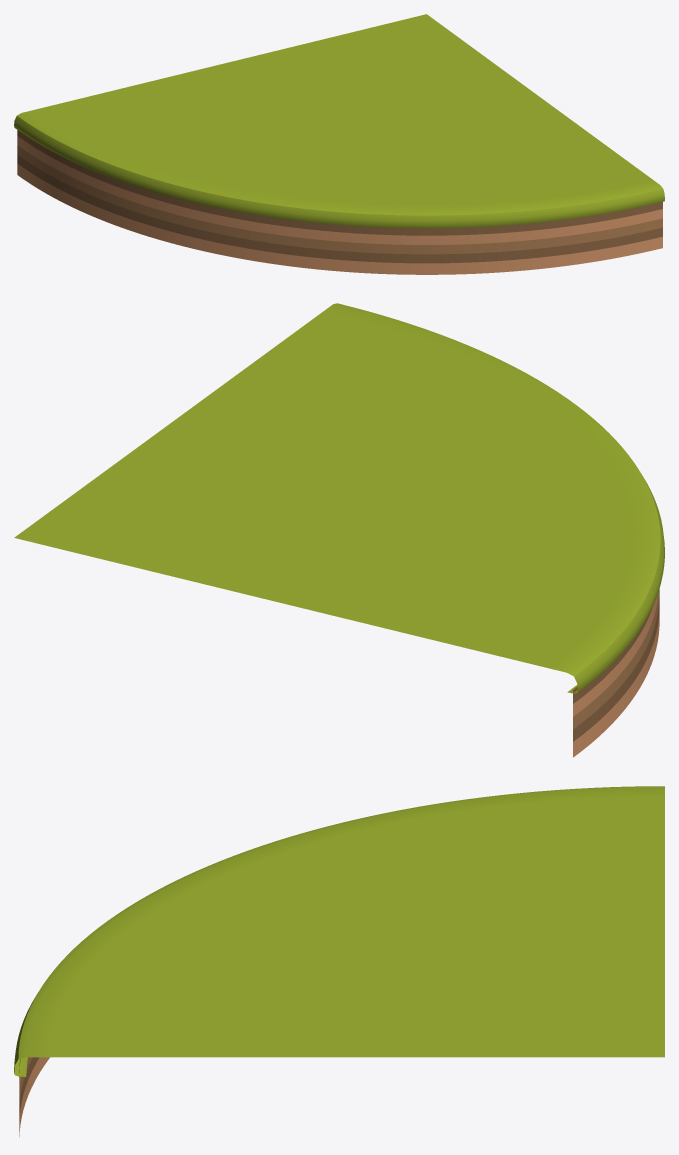
File: platform_grass_corner_round7_tall.gltf
3 views of the same model, one above another, from view 1: azimuth 30°, elevation 25°; view 2: azimuth 150°, elevation 25°; view 3: azimuth 270°, elevation 25° (orthographic). The views are drawn at different scales.
Parts seen in each view (by area): view 1: Cube_Grass_Corner_Round7_Tall; view 2: Cube_Grass_Corner_Round7_Tall; view 3: Cube_Grass_Corner_Round7_Tall.
Boxes of the visible parts, x1,y1,x2,y2 form: Cube_Grass_Corner_Round7_Tall: (14, 14, 664, 274); Cube_Grass_Corner_Round7_Tall: (14, 303, 664, 757); Cube_Grass_Corner_Round7_Tall: (14, 786, 664, 1136).
Bounding box in the file's own units: 14.12 × 2 × 14.12.
